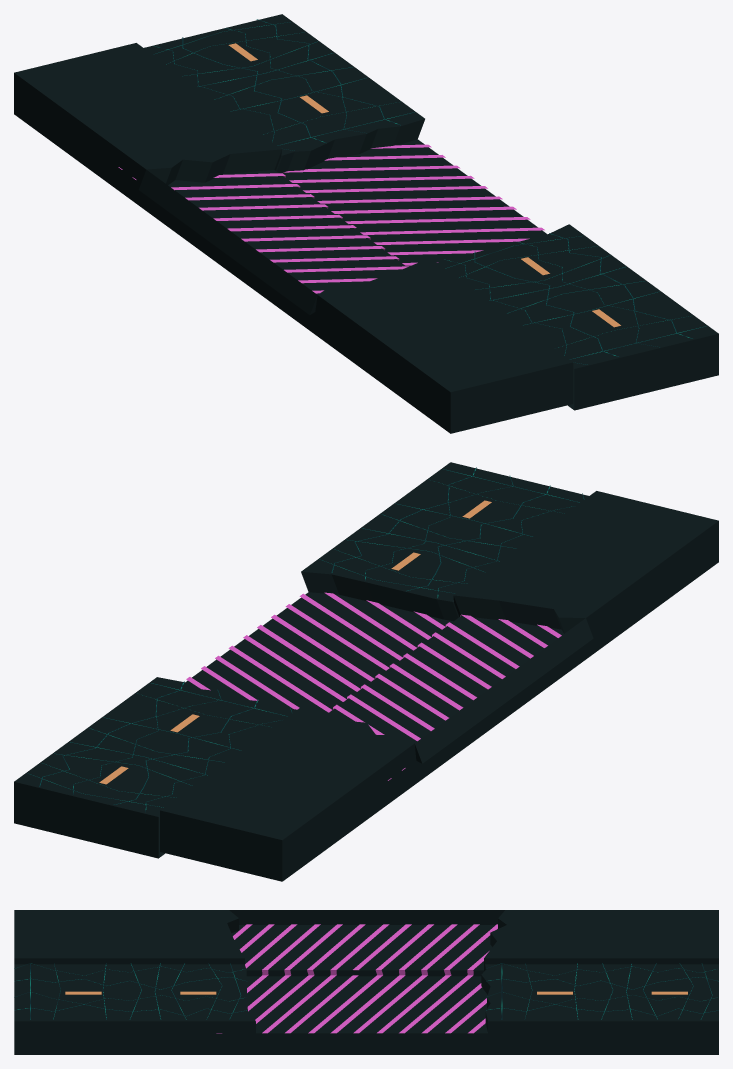
File: crackedsidewalk.fbx
The picture shows the model from 3 angles, top to bottom: view 1: azimuth 30°, elevation 25°; view 2: azimuth 150°, elevation 25°; view 3: azimuth 270°, elevation 25°; orthographic projection. The views are drawn at different scales.
Visible parts, largest first — view 1: Cube.025, Plane.004, Plane.010, Plane.003, Plane.001; view 2: Cube.025, Plane.004, Plane.010, Plane.003, Plane.001; view 3: Cube.025, Plane.004, Plane.010, Plane.003, Plane.001.
Boxes of the visible parts, x1=… form: Cube.025: x1=14, y1=14, x2=718, y2=433; Plane.004: x1=118, y1=144, x2=530, y2=241; Plane.010: x1=228, y1=206, x2=544, y2=293; Plane.003: x1=152, y1=19, x2=414, y2=150; Plane.001: x1=444, y1=233, x2=706, y2=364; Cube.025: x1=14, y1=462, x2=718, y2=881; Plane.004: x1=186, y1=614, x2=476, y2=780; Plane.010: x1=257, y1=592, x2=561, y2=710; Plane.003: x1=27, y1=681, x2=292, y2=812; Plane.001: x1=319, y1=467, x2=584, y2=597; Cube.025: x1=14, y1=910, x2=718, y2=1054; Plane.004: x1=308, y1=924, x2=497, y2=1033; Plane.010: x1=216, y1=924, x2=411, y2=1033; Plane.003: x1=486, y1=963, x2=718, y2=1019; Plane.001: x1=14, y1=963, x2=247, y2=1019.
Size of the model in its own units: 1422 by 239 by 3899.
